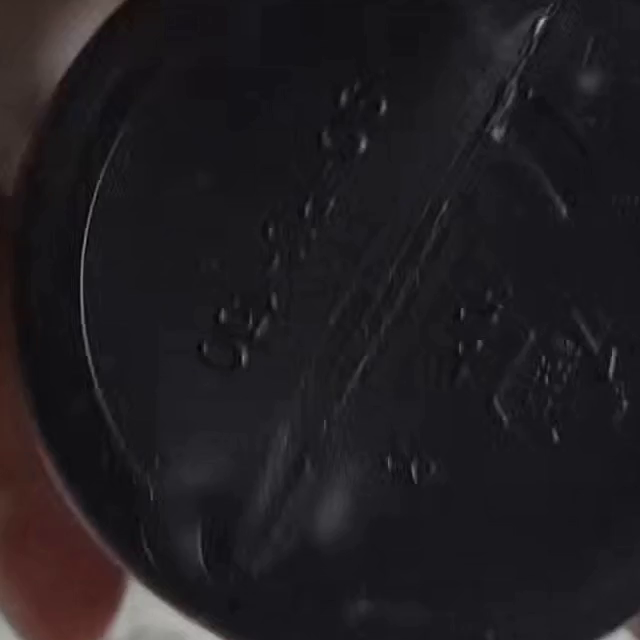Plastic: (485, 300, 631, 446)
